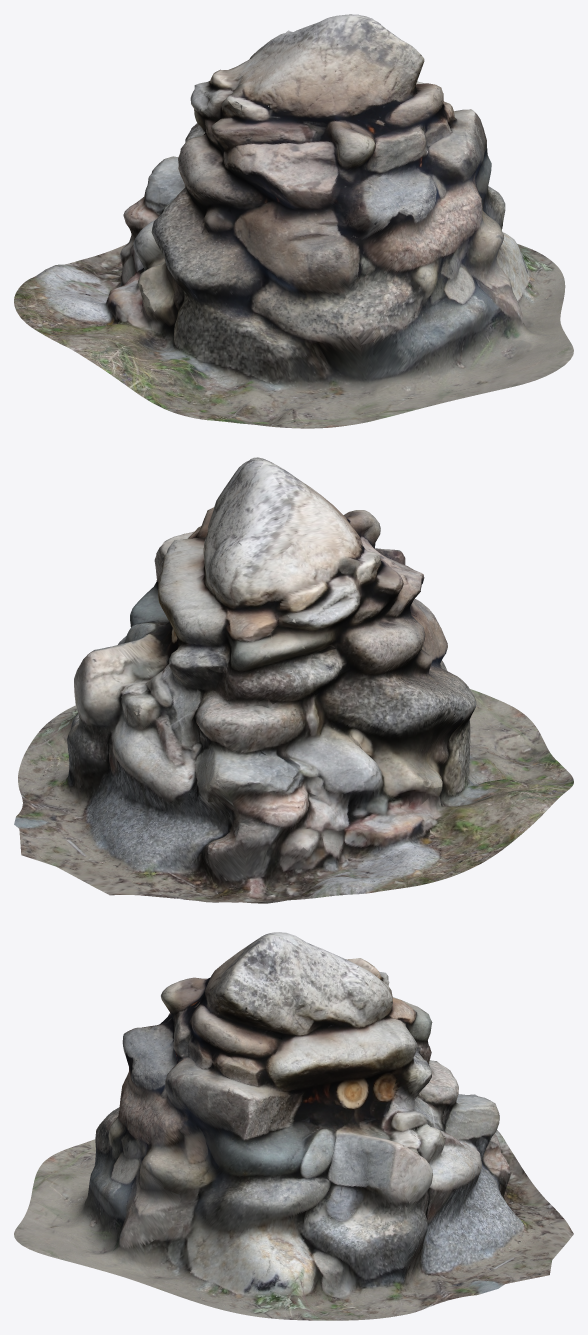
Rendered from Bath.FBX.
3 views of the same model, one above another, from view 1: azimuth 30°, elevation 25°; view 2: azimuth 150°, elevation 25°; view 3: azimuth 270°, elevation 25° (orthographic). The views are drawn at different scales.
Visible parts, largest first — view 1: Texture_0; view 2: Texture_0; view 3: Texture_0.
Boxes of the visible parts, x1=… form: Texture_0: x1=14, y1=14, x2=573, y2=428; Texture_0: x1=14, y1=457, x2=573, y2=903; Texture_0: x1=14, y1=932, x2=573, y2=1320.
Size of the model in its own units: 2938 by 1817 by 3031.
Materials: 1 (1 with a texture image).
